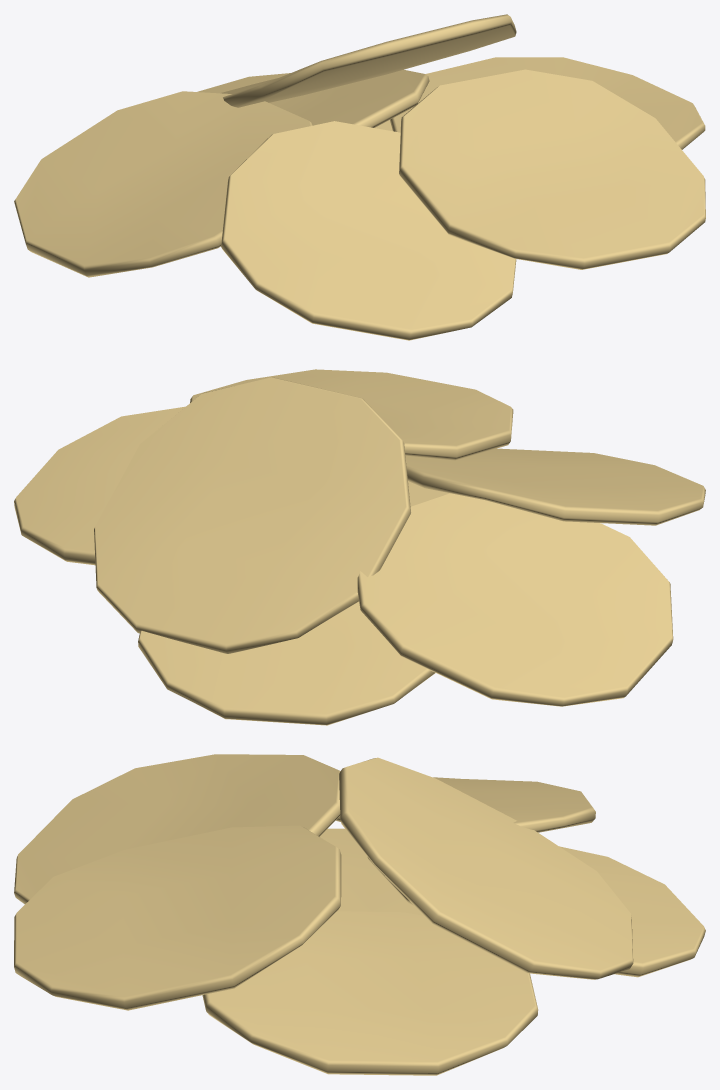
File: fries.fbx
The picture shows the model from 3 angles, top to bottom: view 1: azimuth 30°, elevation 25°; view 2: azimuth 150°, elevation 25°; view 3: azimuth 270°, elevation 25°; orthographic projection. The views are drawn at different scales.
Parts seen in each view (by area): view 1: fries; view 2: fries; view 3: fries.
Boxes of the visible parts, x1,y1,x2,y2 form: fries: [14, 14, 705, 340]; fries: [14, 369, 705, 725]; fries: [14, 754, 705, 1075].
Bounding box in the file's own units: 0.1457 × 0.0409 × 0.1335.
